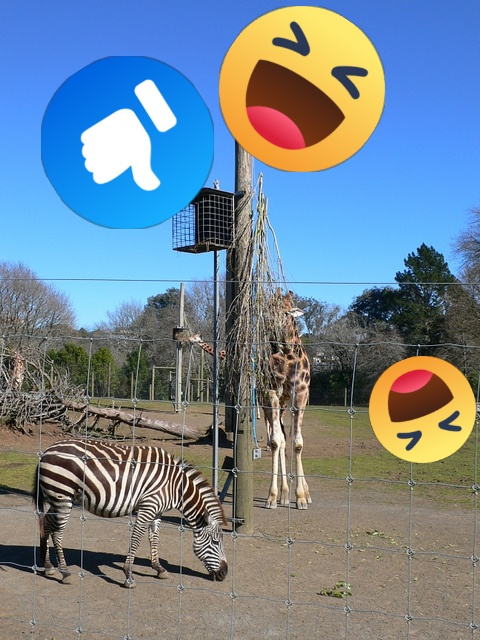haha: (219, 6, 385, 172), (369, 356, 476, 463)
like: (41, 56, 214, 229)
